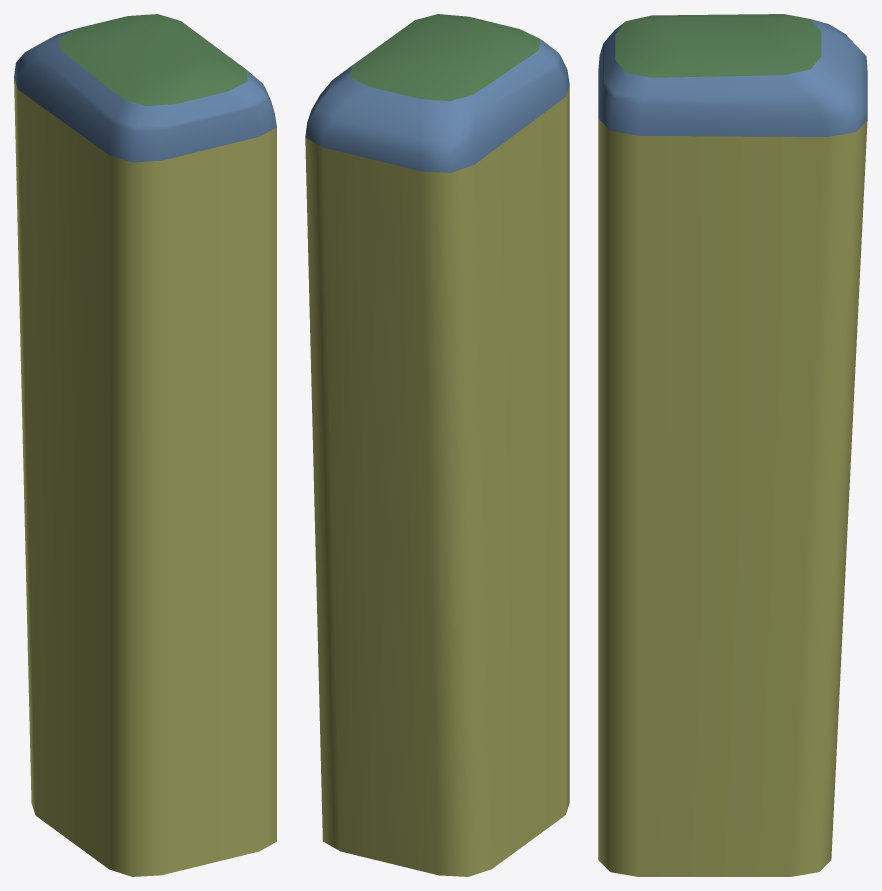
Rendered from Mini_PLat_4.fbx.
3 renders of one model, left to right at view 1: azimuth 30°, elevation 25°; view 2: azimuth 150°, elevation 25°; view 3: azimuth 270°, elevation 25°, orthographic. The views are drawn at different scales.
Parts seen in each view (by area): view 1: Mini_PLat_4, Wall2, Ground2; view 2: Mini_PLat_4, Wall2, Ground2; view 3: Mini_PLat_4, Wall2, Ground2.
Part boxes in pixels (<box>): Mini_PLat_4: <box>14,78,276,876</box>; Wall2: <box>14,28,276,162</box>; Ground2: <box>58,14,247,106</box>; Mini_PLat_4: <box>305,85,569,876</box>; Wall2: <box>305,39,569,172</box>; Ground2: <box>350,14,540,101</box>; Mini_PLat_4: <box>598,119,867,876</box>; Wall2: <box>598,19,867,136</box>; Ground2: <box>615,14,821,77</box>.
Size of the model in its own units: 2075 by 9309 by 2842.
